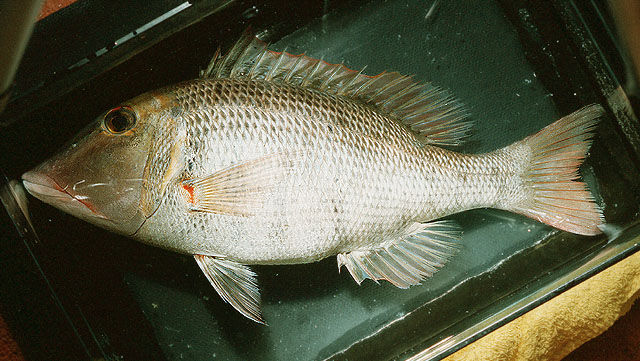fish: (22, 26, 608, 326)
